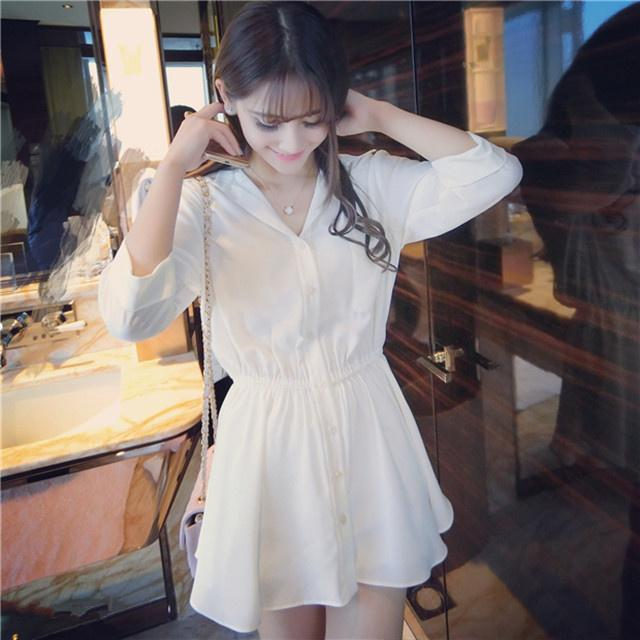long-sleeve-outwear: (118, 136, 548, 622)
